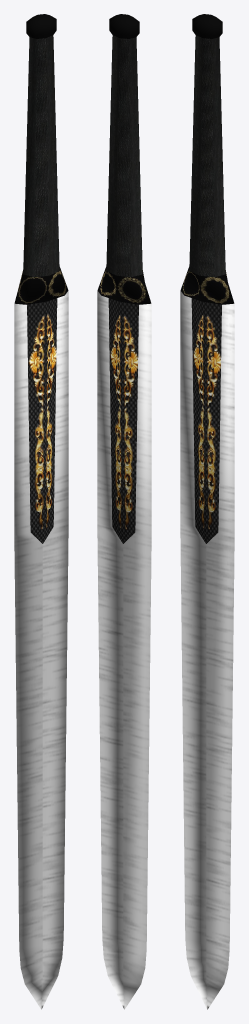
Rendered from YthienSword.fbx.
3 views of the same model, side by side, from view 1: azimuth 30°, elevation 25°; view 2: azimuth 150°, elevation 25°; view 3: azimuth 330°, elevation 25° (orthographic).
Visible parts, largest first — view 1: YthienSword; view 2: YthienSword; view 3: YthienSword.
Part boxes in pixels (left/top/right/bottom): YthienSword: left=14, top=14, right=68, bottom=1009; YthienSword: left=97, top=14, right=151, bottom=1009; YthienSword: left=180, top=14, right=234, bottom=1009.
Bounding box in the file's own units: 8.91 × 4.37 × 155.
4 materials, 4 textured.
